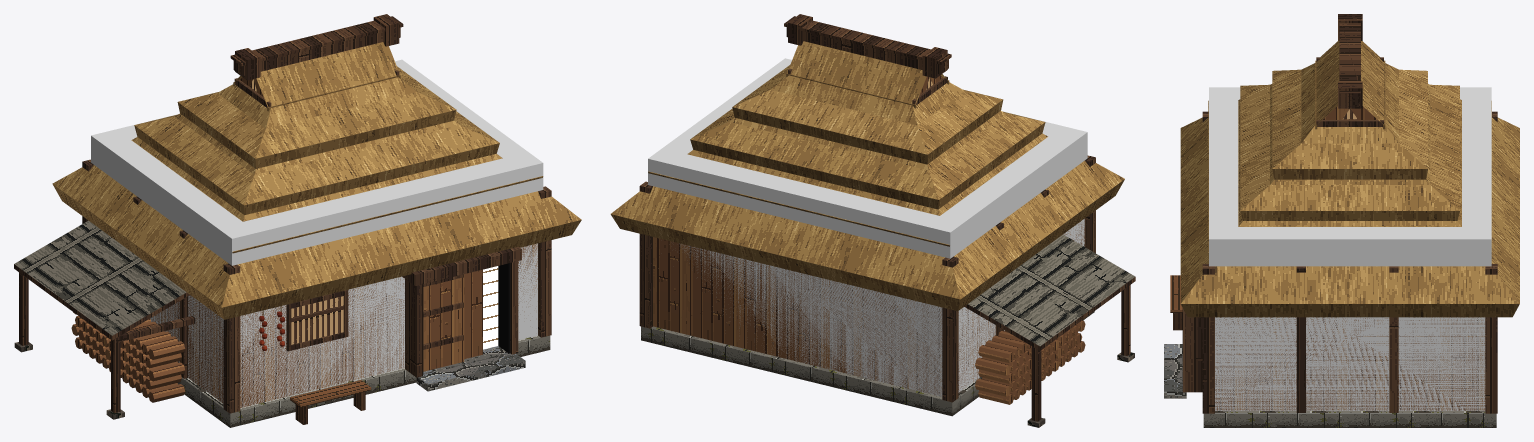
File: JP_Farm_Minka_B.glb
3 renders of one model, left to right at view 1: azimuth 30°, elevation 25°; view 2: azimuth 150°, elevation 25°; view 3: azimuth 270°, elevation 25°, orthographic. The views are drawn at different scales.
Visible parts, largest first — view 1: JP_Farm_Minka_B, COL_JP_Farm_Minka_B; view 2: JP_Farm_Minka_B, COL_JP_Farm_Minka_B; view 3: JP_Farm_Minka_B, COL_JP_Farm_Minka_B.
Part boxes in pixels (left/top/right/bottom): JP_Farm_Minka_B: left=14, top=14, right=581, bottom=427; COL_JP_Farm_Minka_B: left=91, top=59, right=543, bottom=407; JP_Farm_Minka_B: left=610, top=14, right=1135, bottom=427; COL_JP_Farm_Minka_B: left=648, top=58, right=1087, bottom=396; JP_Farm_Minka_B: left=1164, top=14, right=1519, bottom=427; COL_JP_Farm_Minka_B: left=1209, top=87, right=1491, bottom=410.
Bounding box in the file's own units: 9.45 × 6.41 × 6.92.
15 materials, 15 textured.
